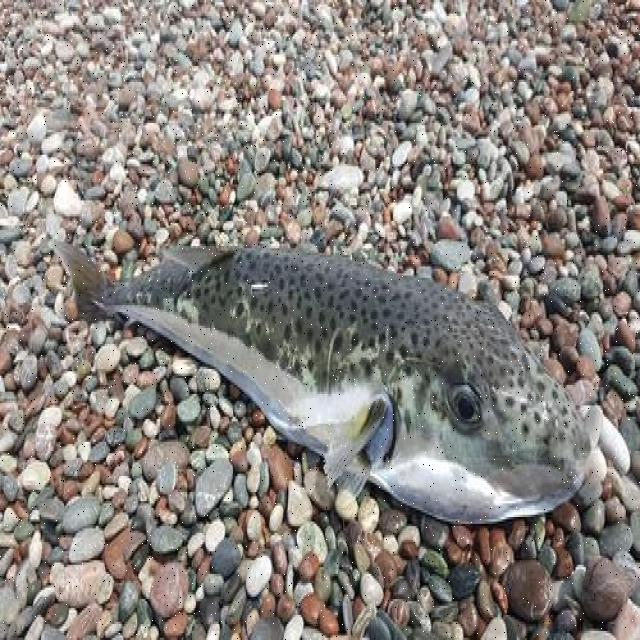Balik: (54, 242, 591, 523)
